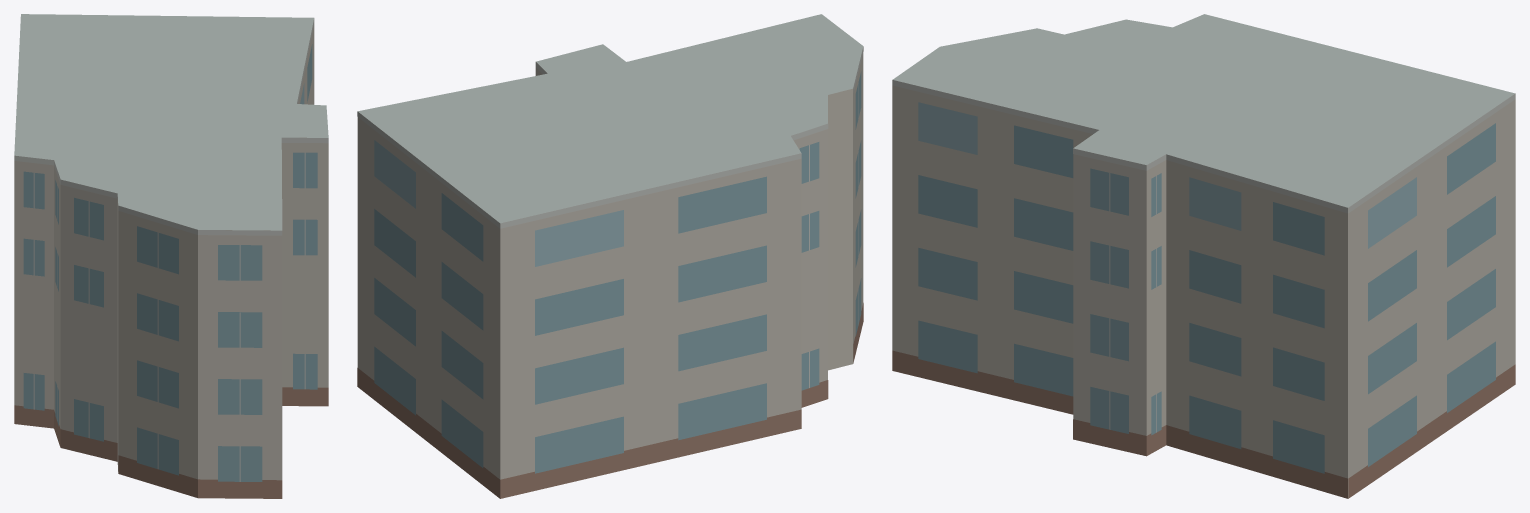
File: survey-upis-32491897.glb
3 renders of one model, left to right at view 1: azimuth 30°, elevation 25°; view 2: azimuth 150°, elevation 25°; view 3: azimuth 270°, elevation 25°, orthographic. The views are drawn at different scales.
Visible parts, largest first — view 1: survey-upis-32491897.tmp; view 2: survey-upis-32491897.tmp; view 3: survey-upis-32491897.tmp.
Part boxes in pixels (x1,y1,x2,y2): survey-upis-32491897.tmp: (14, 14, 328, 498); survey-upis-32491897.tmp: (357, 14, 863, 498); survey-upis-32491897.tmp: (892, 14, 1515, 498).
Size of the model in its own units: 17.87 by 12.5 by 24.26.
